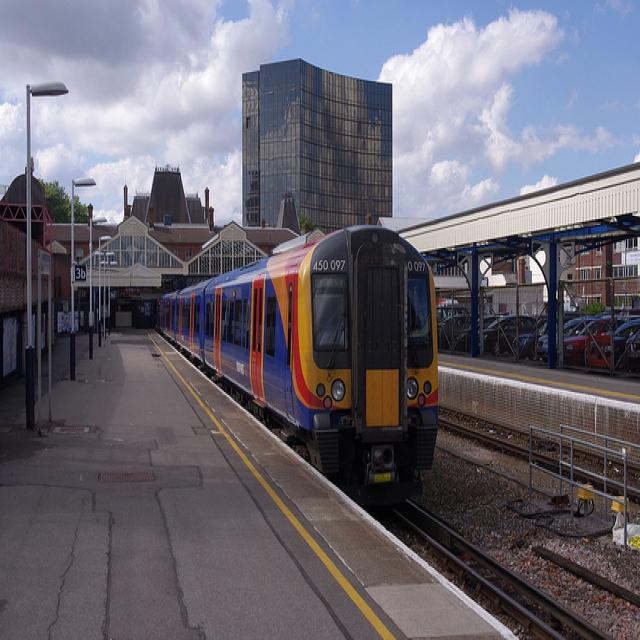Vehicle: (564, 320, 604, 366), (537, 320, 582, 360), (489, 315, 534, 353), (462, 316, 505, 352), (514, 319, 549, 362), (437, 314, 471, 353), (607, 318, 640, 342), (627, 329, 640, 372)
